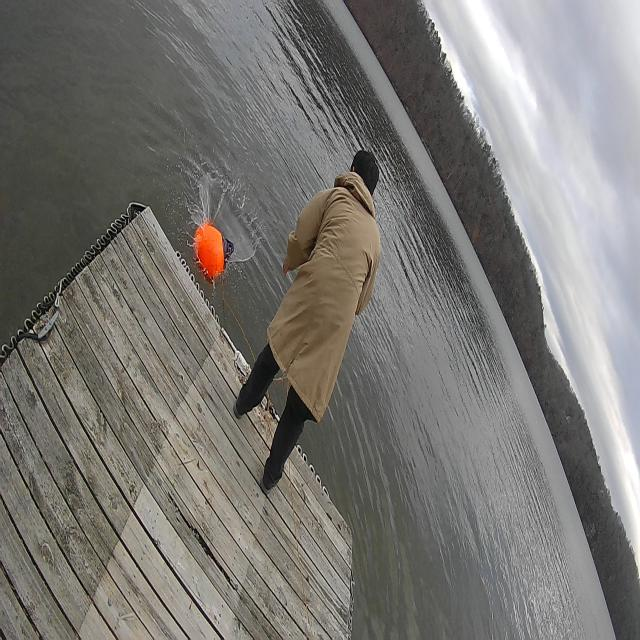Buoy: (191, 218, 238, 290)
